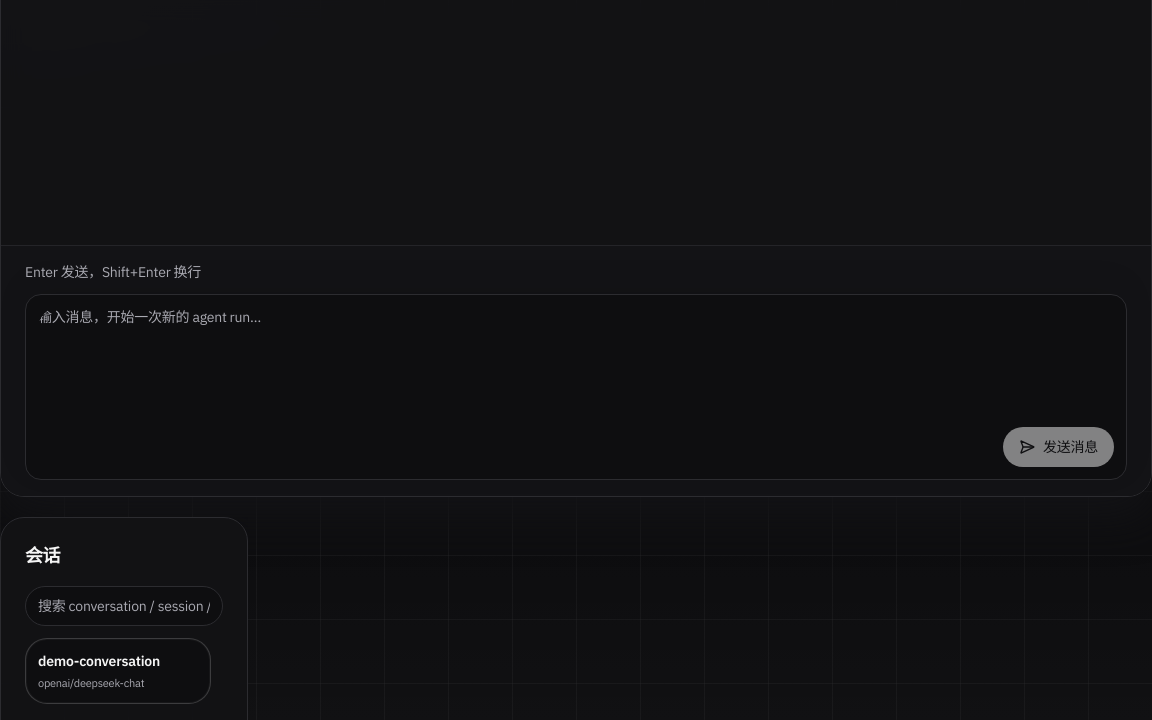
Test: router shell › Console 在新布局下可发送消息并渲染右侧空状态
(page scrolled)
Type "hello" into the text box with placeholder "输入消息，开始一次新的 agent run…" at x=576, y=360, box [38,306,1114,414]
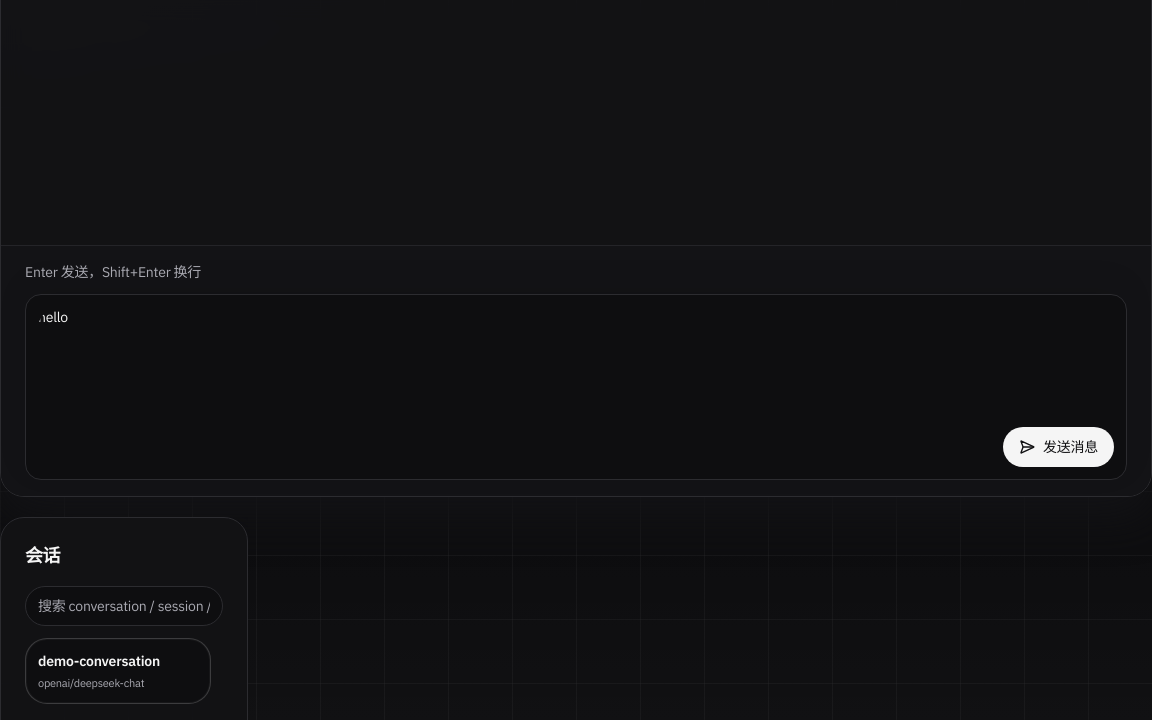
Click the button "发送消息" at x=1058, y=446, box [1003,426,1114,466]
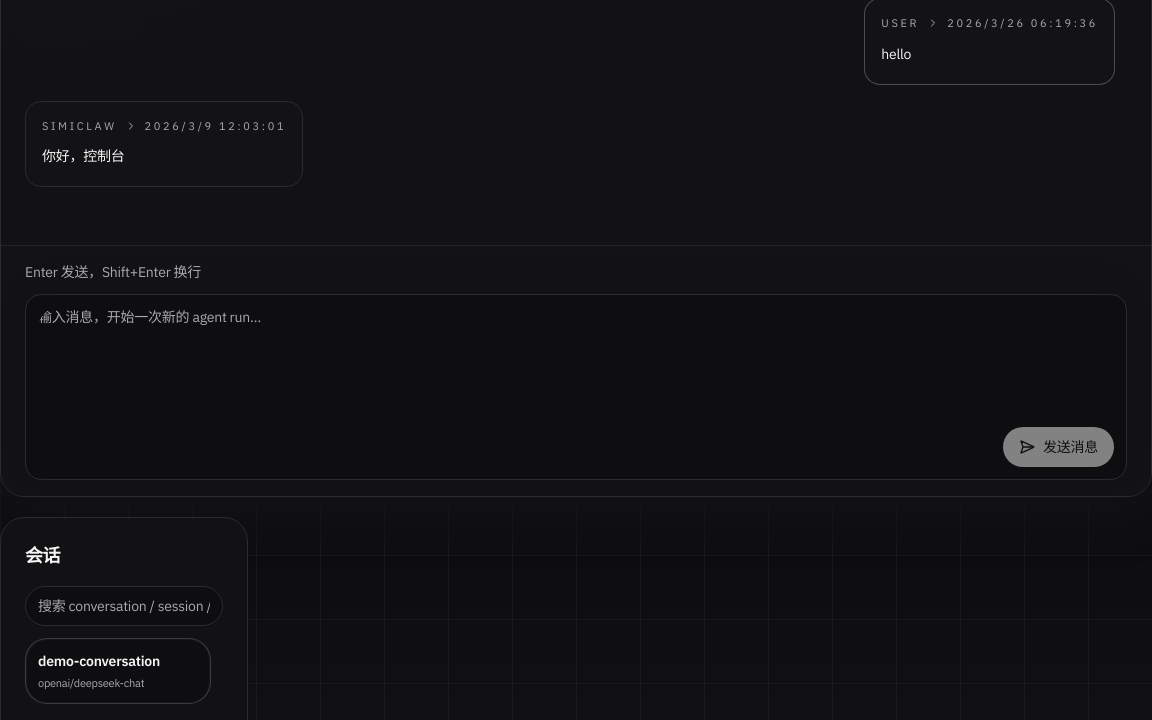
Expected: the text "hello" is shown, [881,44,911,62]
